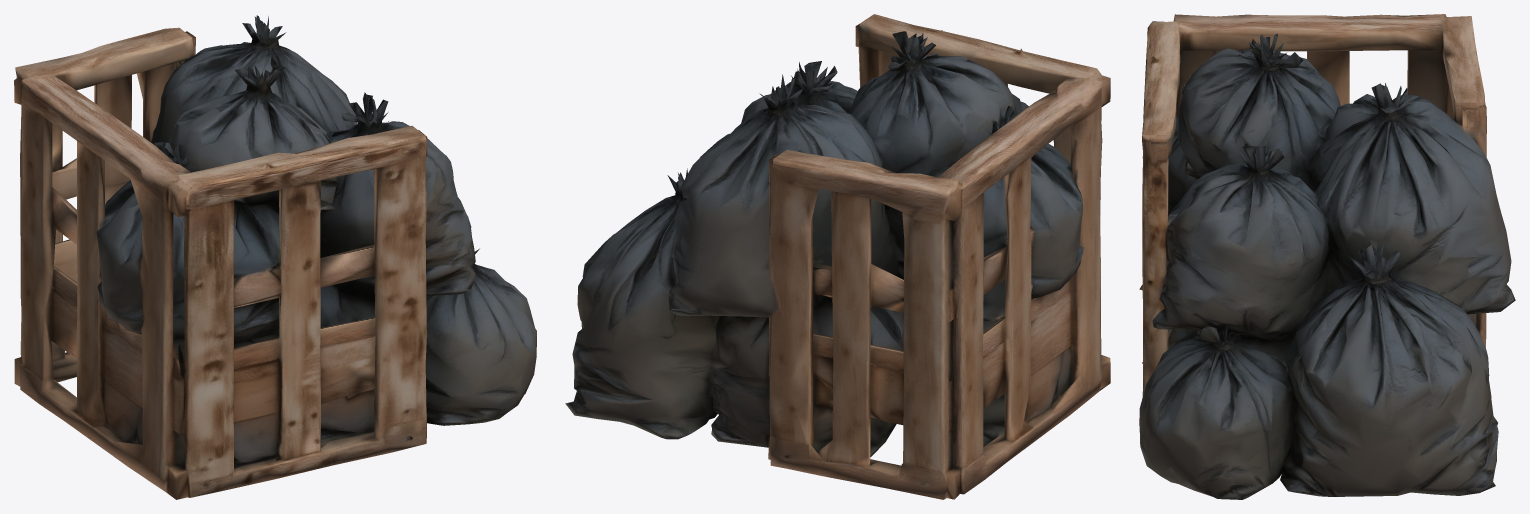
The model's file is trash_pile.glb.
The picture shows the model from 3 angles, left to right: view 1: azimuth 30°, elevation 25°; view 2: azimuth 150°, elevation 25°; view 3: azimuth 270°, elevation 25°; orthographic projection. The views are drawn at different scales.
Parts seen in each view (by area): view 1: tripo_node_48cb2d94-3233-4960-b55a-0abb2115d7ff; view 2: tripo_node_48cb2d94-3233-4960-b55a-0abb2115d7ff; view 3: tripo_node_48cb2d94-3233-4960-b55a-0abb2115d7ff.
Boxes of the visible parts, x1=… form: tripo_node_48cb2d94-3233-4960-b55a-0abb2115d7ff: x1=14, y1=15, x2=536, y2=499; tripo_node_48cb2d94-3233-4960-b55a-0abb2115d7ff: x1=565, y1=14, x2=1110, y2=499; tripo_node_48cb2d94-3233-4960-b55a-0abb2115d7ff: x1=1139, y1=14, x2=1515, y2=499.
Bounding box in the file's own units: 1 × 0.8223 × 0.8045.
1 material, 1 textured.
